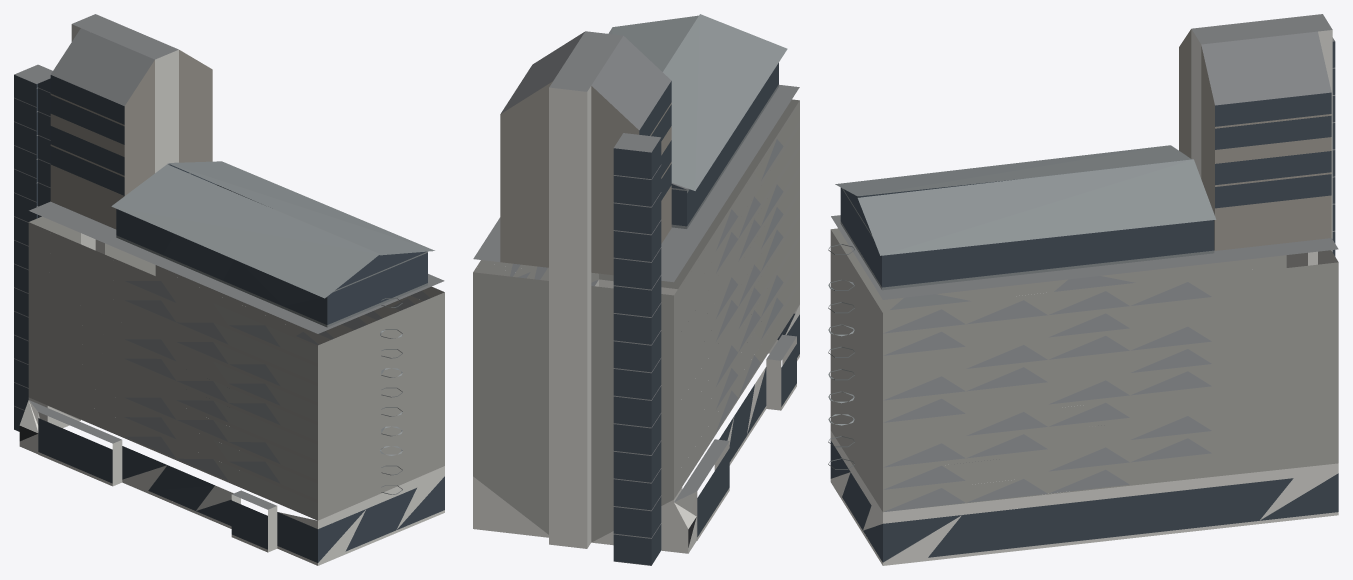
Rendered from betonnen-silo-silodam.lod2.glb.
3 renders of one model, left to right at view 1: azimuth 30°, elevation 25°; view 2: azimuth 150°, elevation 25°; view 3: azimuth 270°, elevation 25°, orthographic. The views are drawn at different scales.
Parts seen in each view (by area): view 1: lod2; view 2: lod2; view 3: lod2.
Part boxes in pixels (x1=…): lod2: x1=14, y1=14, x2=444, y2=565; lod2: x1=473, y1=14, x2=799, y2=565; lod2: x1=828, y1=14, x2=1338, y2=565.
Bounding box in the file's own units: 32.52 × 48.6 × 49.93.
